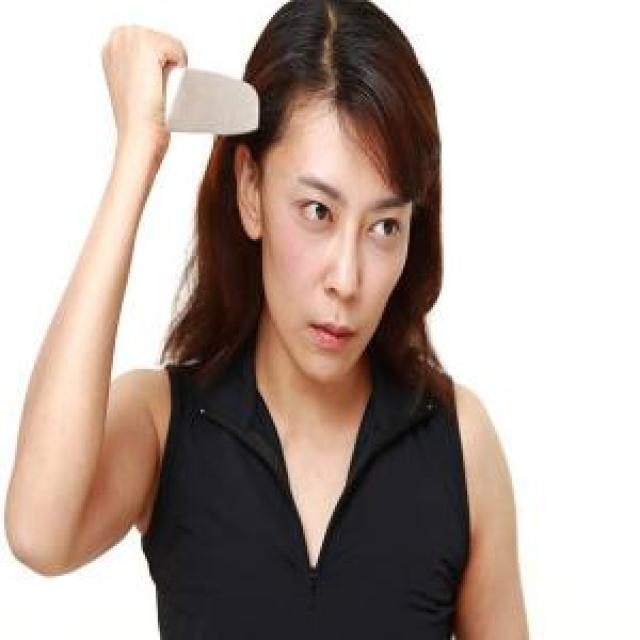knife: (156, 62, 262, 136)
